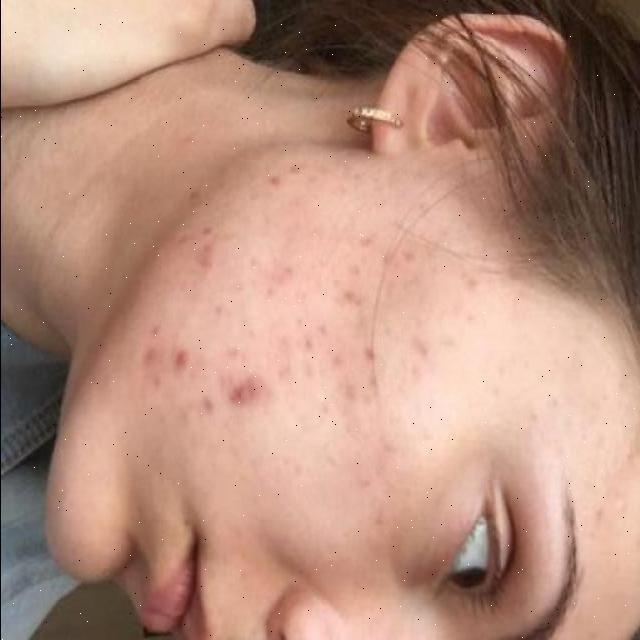Acne: (141, 158, 499, 424)
